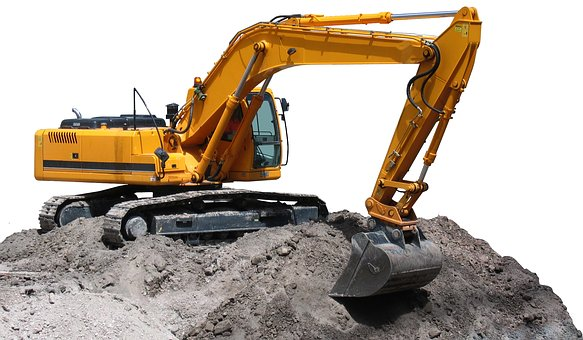excavator: (31, 7, 483, 299)
